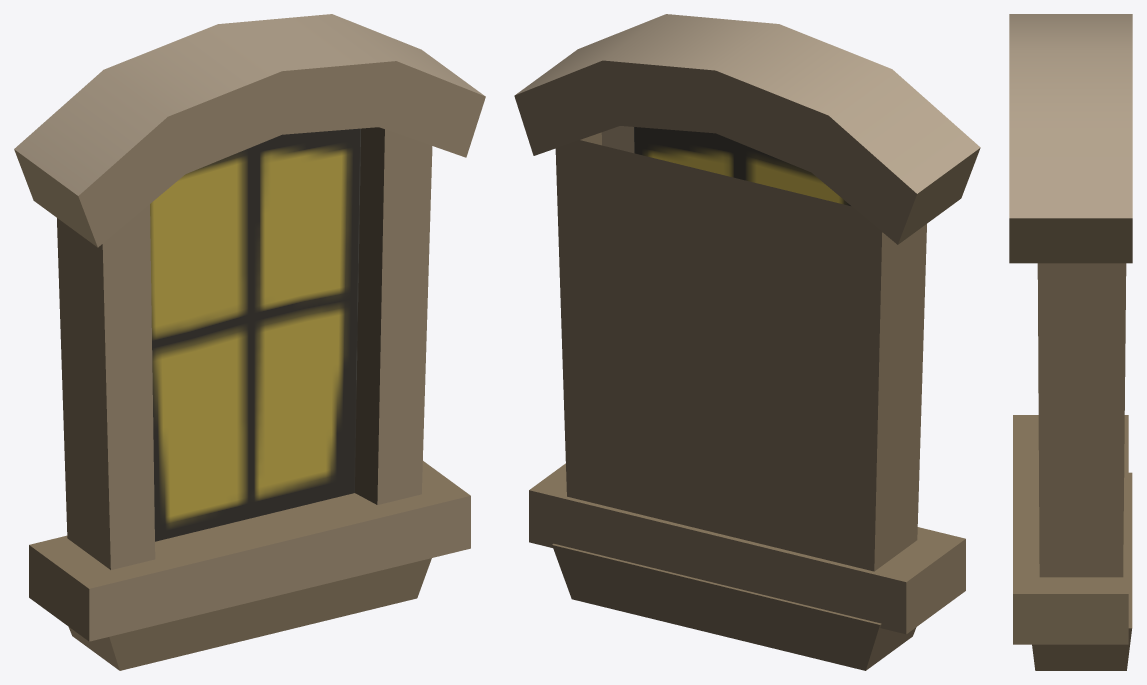
The model's file is Window_B03.fbx.
3 views of the same model, side by side, from view 1: azimuth 30°, elevation 25°; view 2: azimuth 150°, elevation 25°; view 3: azimuth 270°, elevation 25° (orthographic). The views are drawn at different scales.
Visible parts, largest first — view 1: Window_B03; view 2: Window_B03; view 3: Window_B03.
Boxes of the visible parts, x1,y1,x2,y2 form: Window_B03: (14, 14, 485, 670); Window_B03: (514, 14, 980, 670); Window_B03: (1009, 14, 1132, 670).
Bounding box in the file's own units: 165 × 221 × 44.99.
